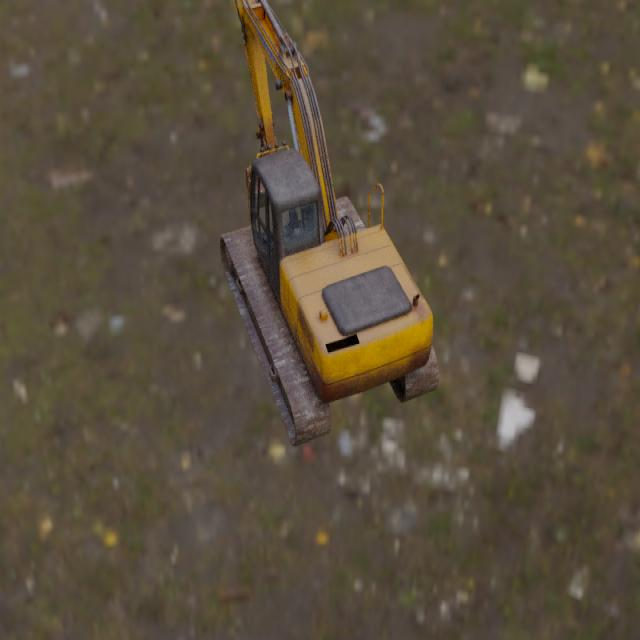excavator: (219, 0, 439, 448)
